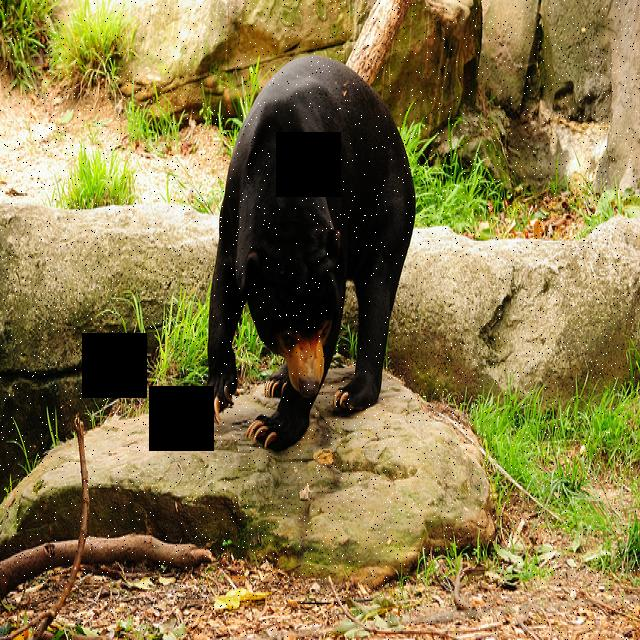Bear: (198, 51, 418, 467)
